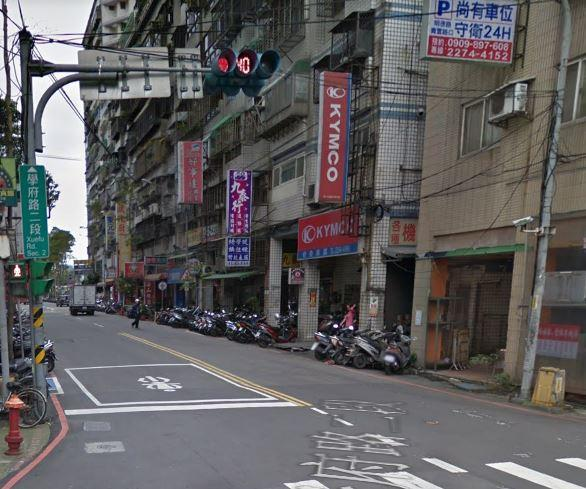red_traffic_light: (206, 46, 279, 81)
